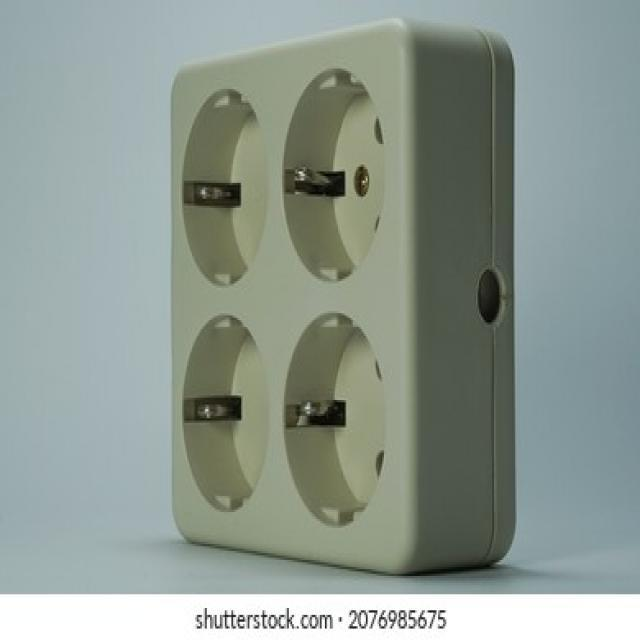typeb: (148, 54, 452, 582), (188, 82, 428, 570)
